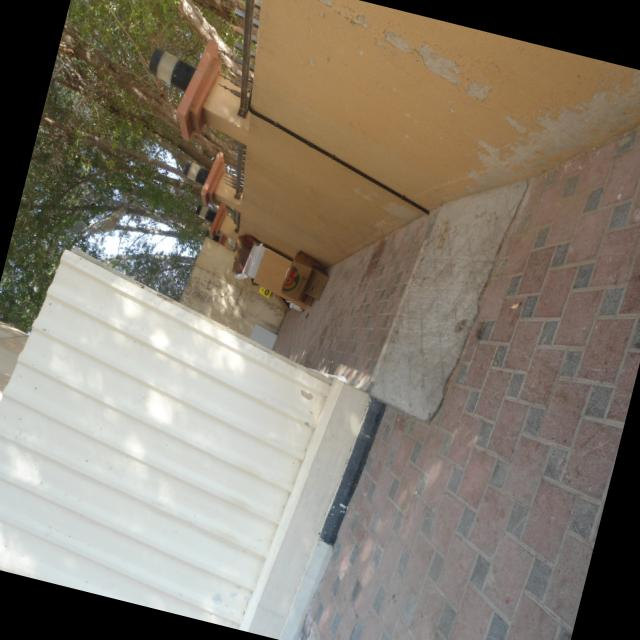ramp: (352, 161, 528, 456)
